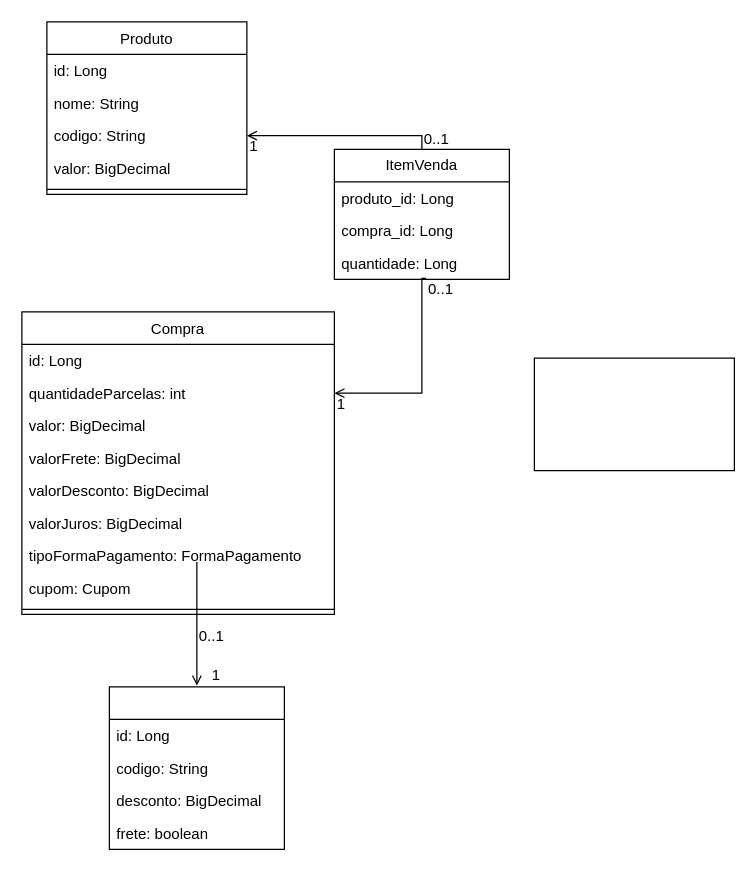
Image size: 756x875. Some labels were removed from this diagram. Each missing label, with the box of its shape:
Cupom: (108, 686, 284, 849)
FormaPagamento PIX, CREDITO, BOLETO;: (533, 357, 734, 471)
